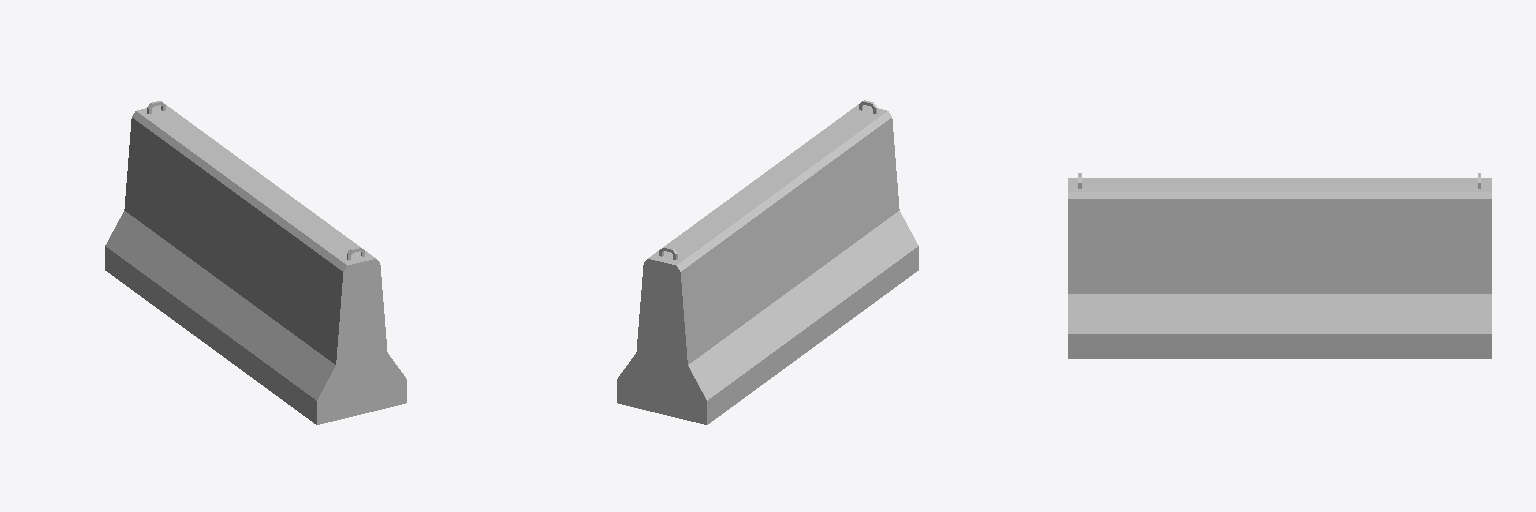
Rendered from Block_A.obj.
The picture shows the model from 3 angles: view 1: azimuth 30°, elevation 25°; view 2: azimuth 150°, elevation 25°; view 3: azimuth 270°, elevation 25°; orthographic projection.
Visible parts, largest first — view 1: Block_A; view 2: Block_A; view 3: Block_A.
Part boxes in pixels (bbox=[...]): Block_A: bbox=[105, 101, 406, 424]; Block_A: bbox=[617, 100, 918, 424]; Block_A: bbox=[1068, 173, 1491, 358].
Size of the model in its own units: 62 by 107 by 253.